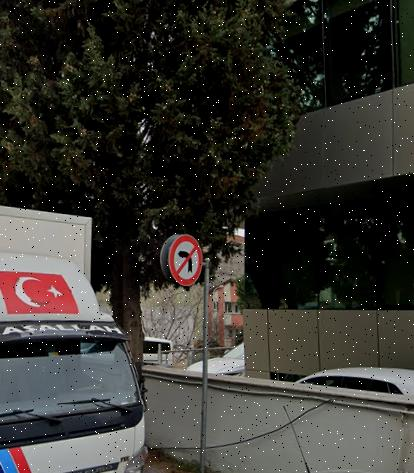leftturnsareforbidden: (171, 235, 202, 283)
